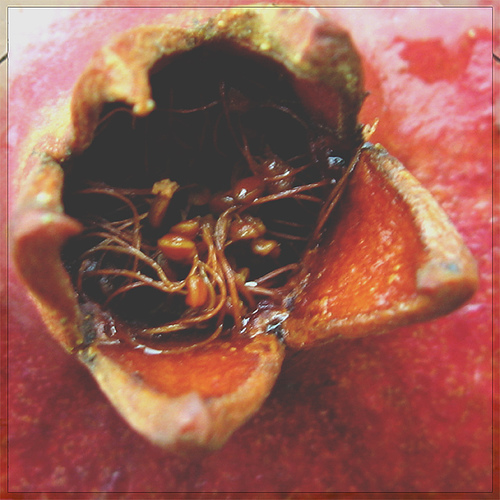pomogranate: (2, 2, 497, 497)
